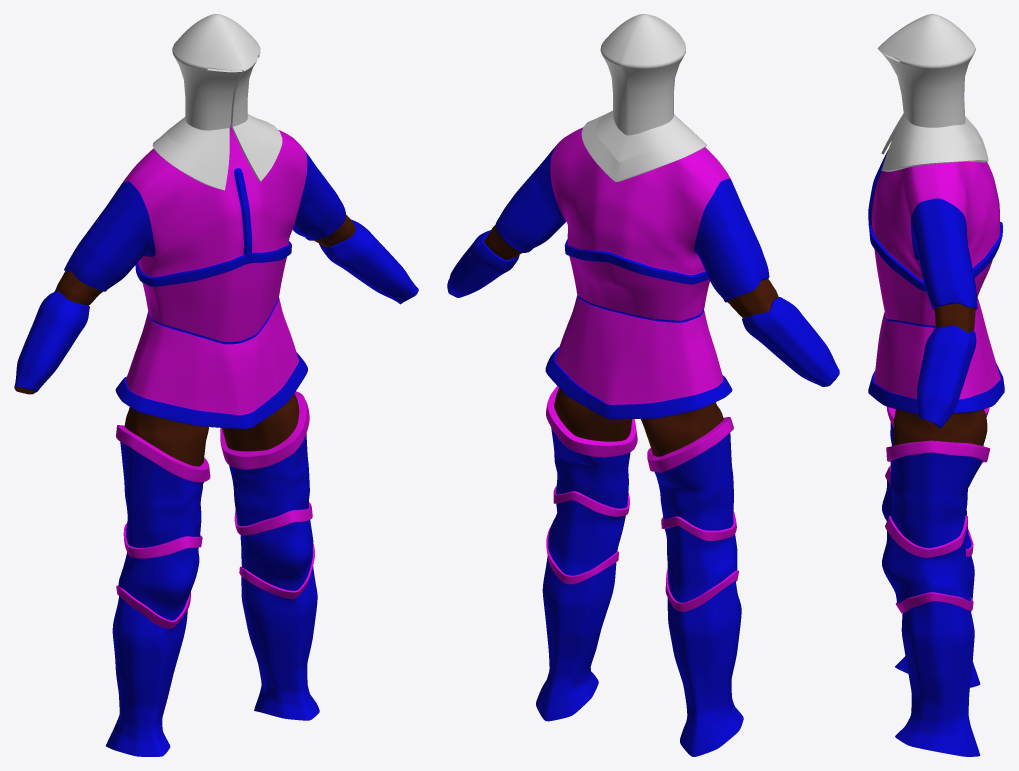
The model's file is Boss_Weaver_Set_High.fbx.
3 renders of one model, left to right at view 1: azimuth 30°, elevation 25°; view 2: azimuth 150°, elevation 25°; view 3: azimuth 270°, elevation 25°, orthographic. The views are drawn at different scales.
Parts seen in each view (by area): view 1: Body, Main; view 2: Body, Main; view 3: Body, Main.
Boxes of the visible parts, x1,y1,x2,y2 form: Body: (14,126,418,756); Main: (152,14,282,190); Body: (447,127,839,756); Main: (581,14,707,181); Body: (868,149,1004,756); Main: (877,14,988,171).
Bounding box in the file's own units: 2.75 × 4.75 × 0.8353.
